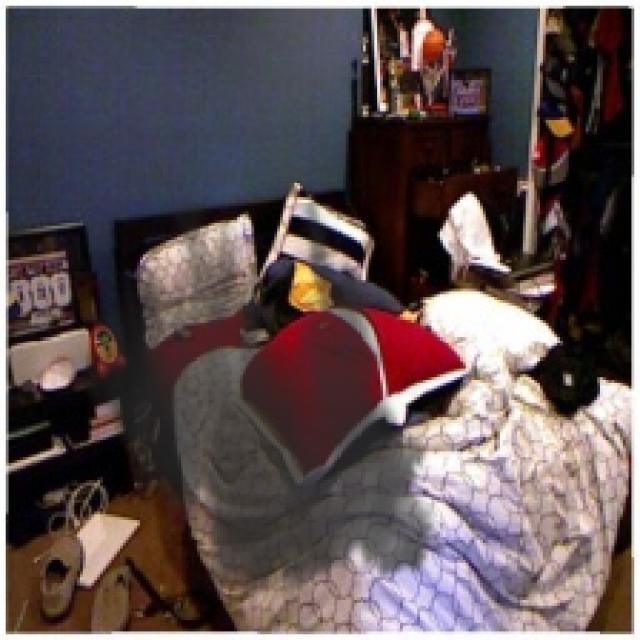smoke: (72, 203, 454, 614)
